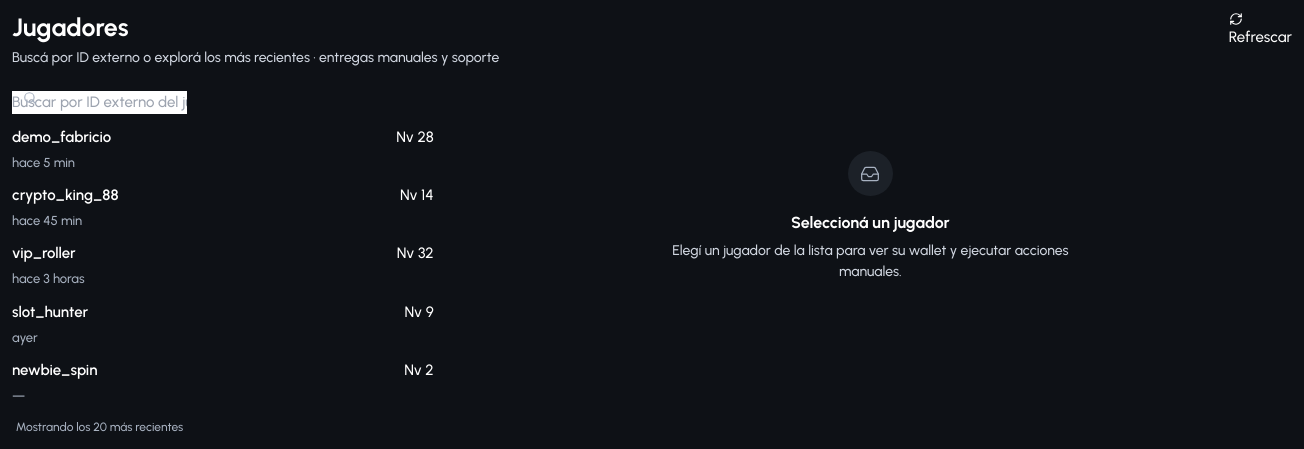
PlayersPage › muestra acciones manuales en detalle
Click the text "crypto_king_88". click: (65, 196)
box: [12,184,118,207]
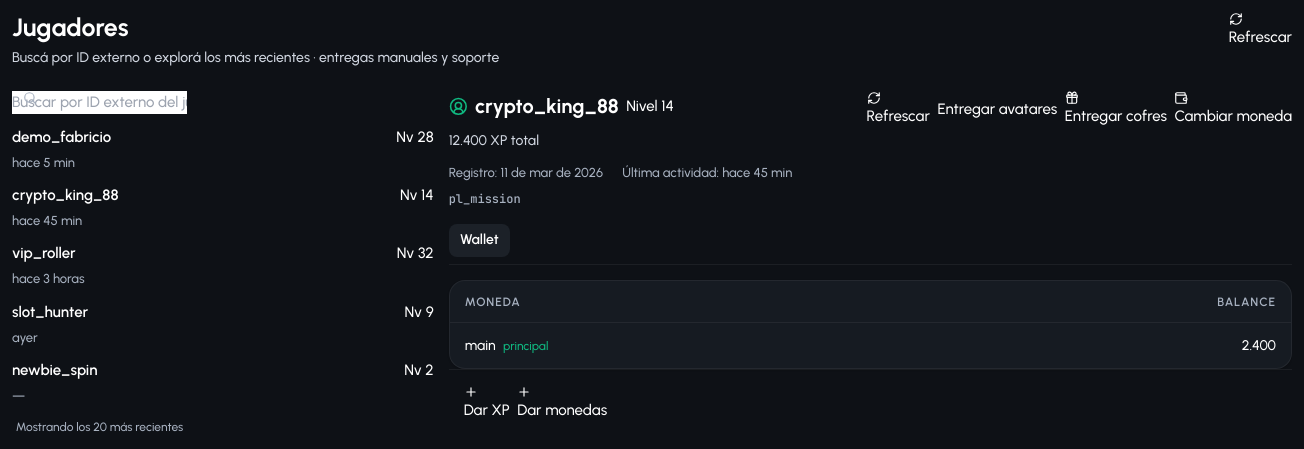
expect the button "Entregar avatares" is shown: met, box [937,91,1057,128]
expect the button "Entregar cofres" is shown: met, box [1065,91,1167,128]
expect the button "Cambiar moneda" is shown: met, box [1174,91,1292,128]
